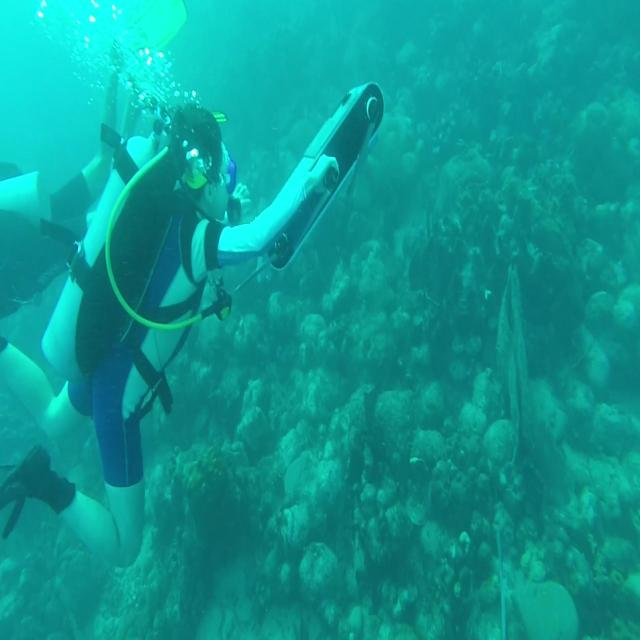human: (1, 61, 383, 568), (1, 98, 160, 338)
